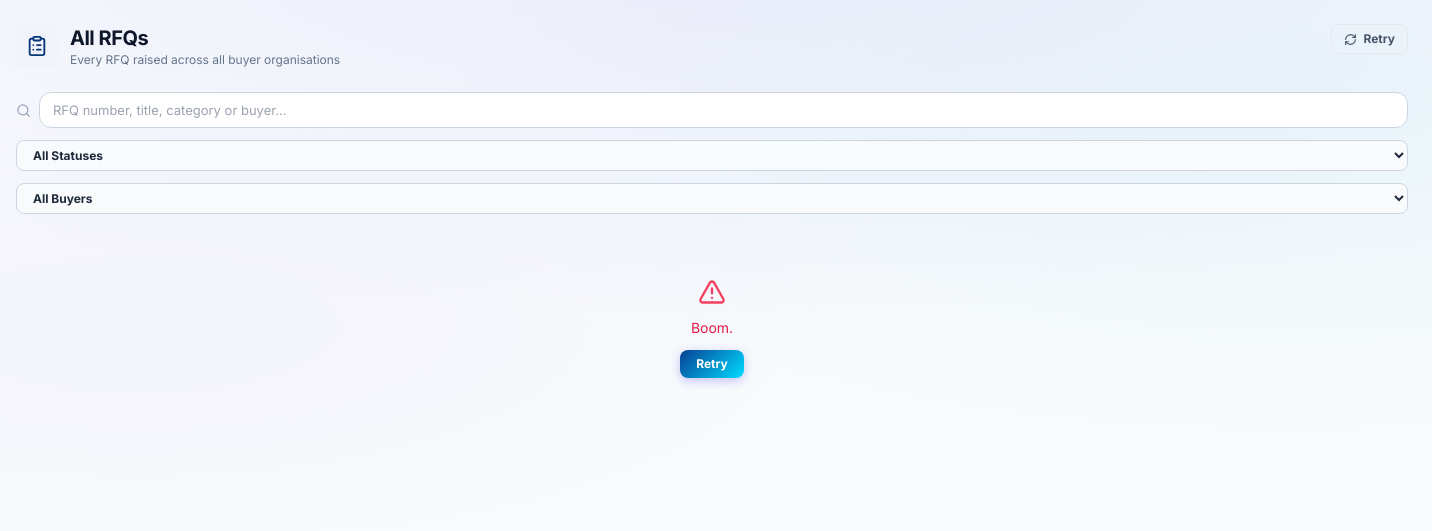
Test case: AllRFQsConsole › surfaces a load failure and retries on demand
Expected: the text "Boom." is shown, [691,318,733,338]
Click the button "Retry" below "Boom.". click: (712, 364)
box: [680,350,744,378]
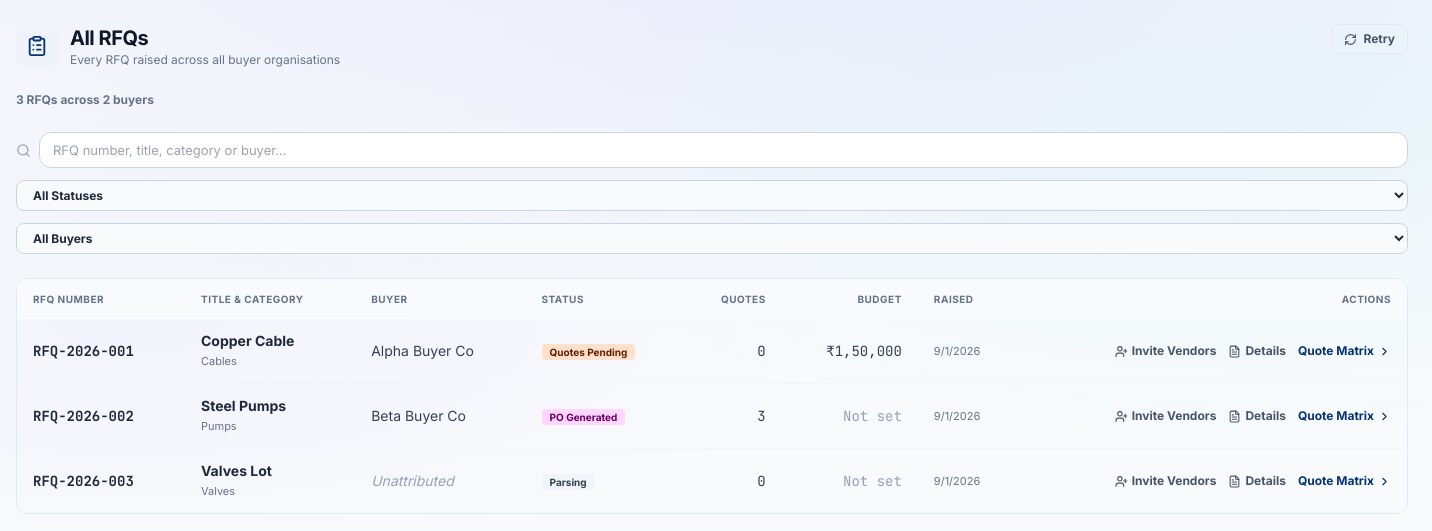
Expected: the text "Copper Cable" is shown, [201,332,294,349]
